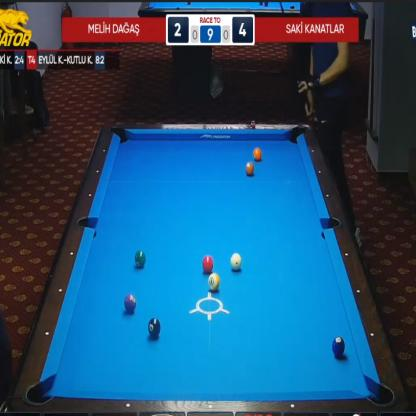Ball: (332, 334, 345, 357), (148, 317, 161, 339), (124, 294, 137, 314), (208, 272, 220, 292), (134, 249, 146, 268), (230, 253, 242, 271), (202, 255, 214, 273), (253, 147, 262, 162), (245, 162, 254, 175)
